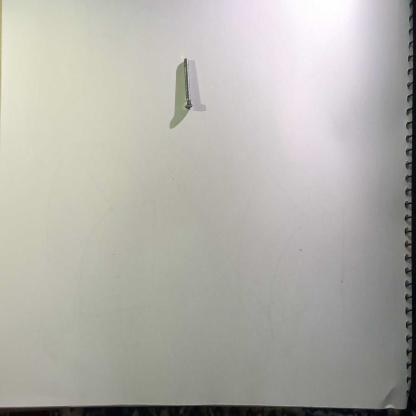Bolts: (179, 52, 196, 116)
